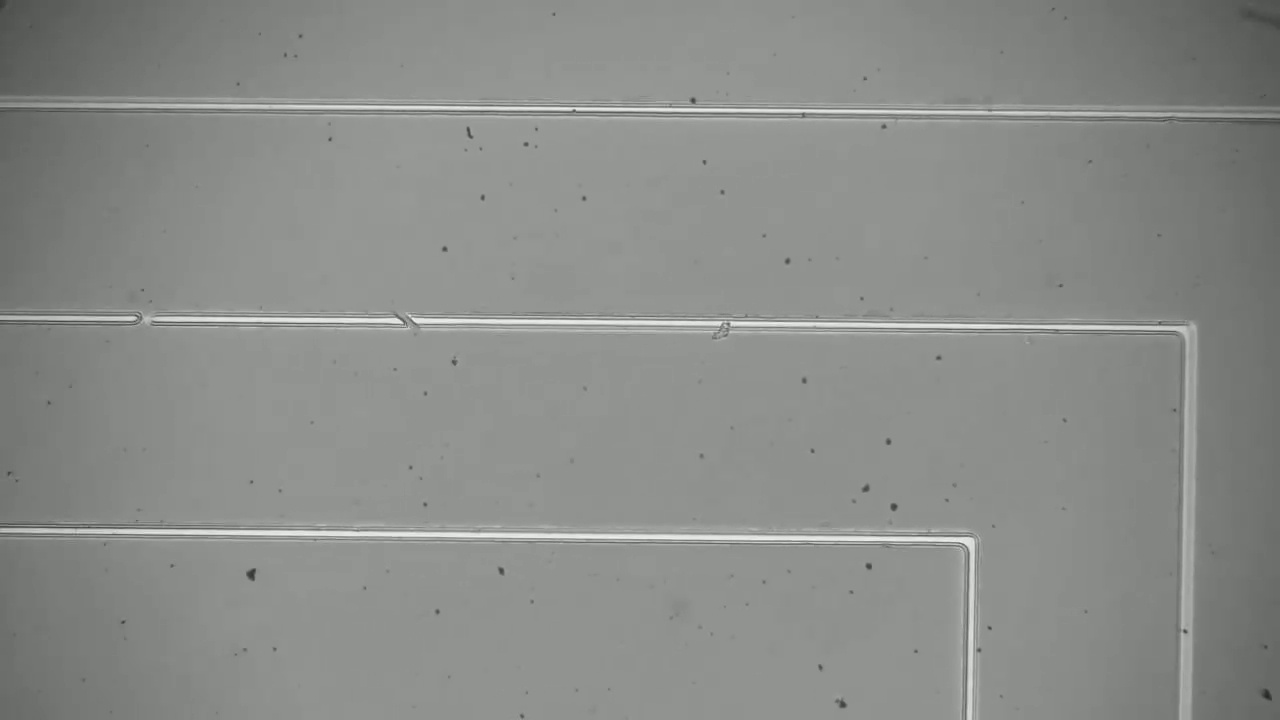open: (383, 299, 429, 344), (123, 307, 162, 332)
stains_enbedded: (699, 307, 745, 350)
